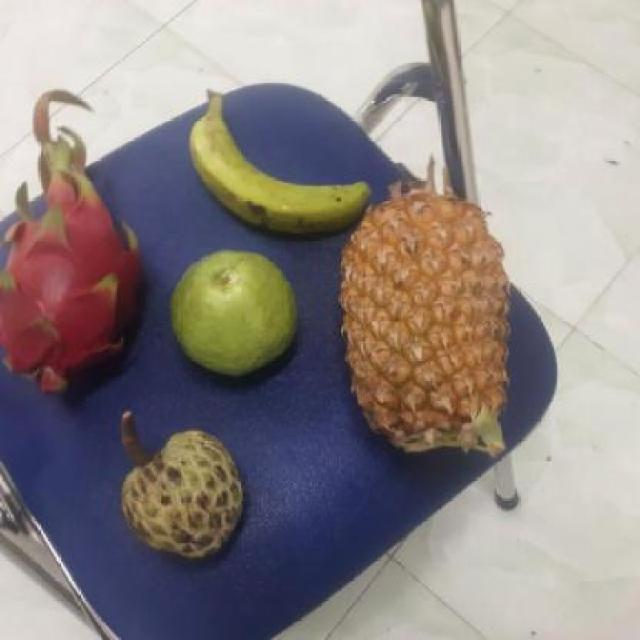banana: (186, 84, 389, 238)
dragon fruit: (1, 173, 147, 396)
guava: (171, 248, 304, 379)
pineapple: (338, 194, 516, 458)
sugar apple: (118, 422, 252, 562)
